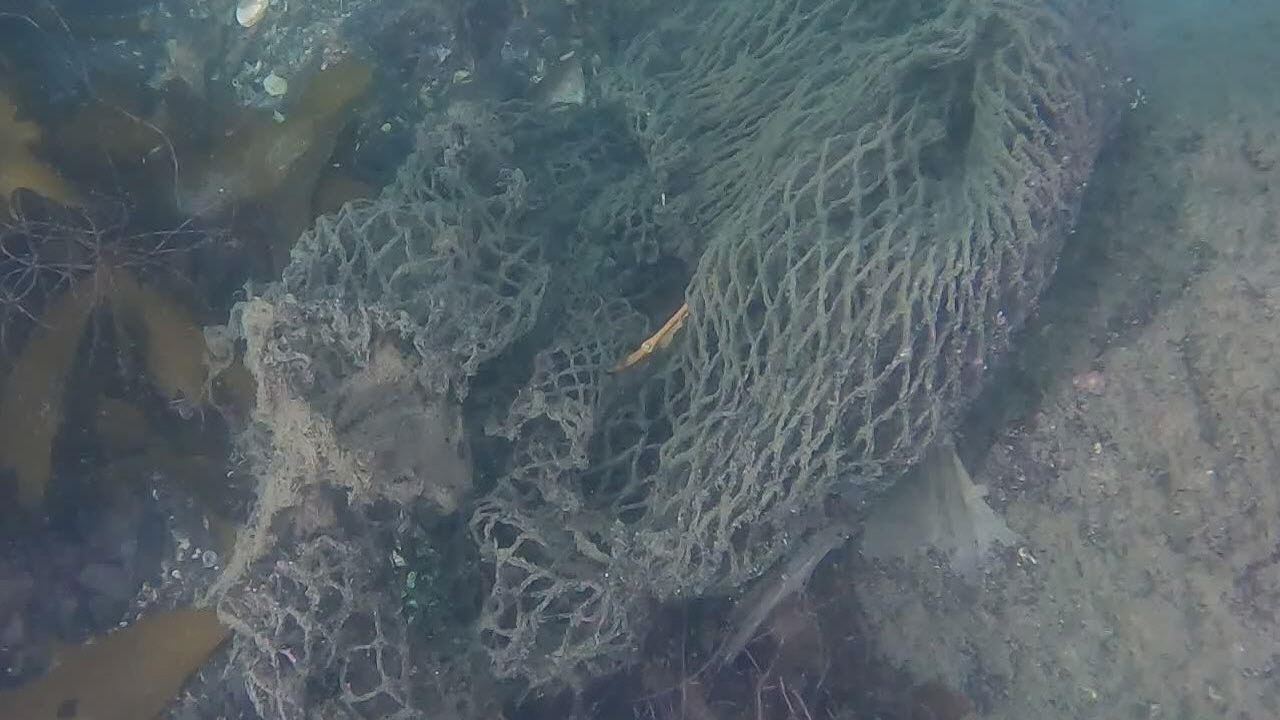fish net: (214, 0, 1122, 720)
